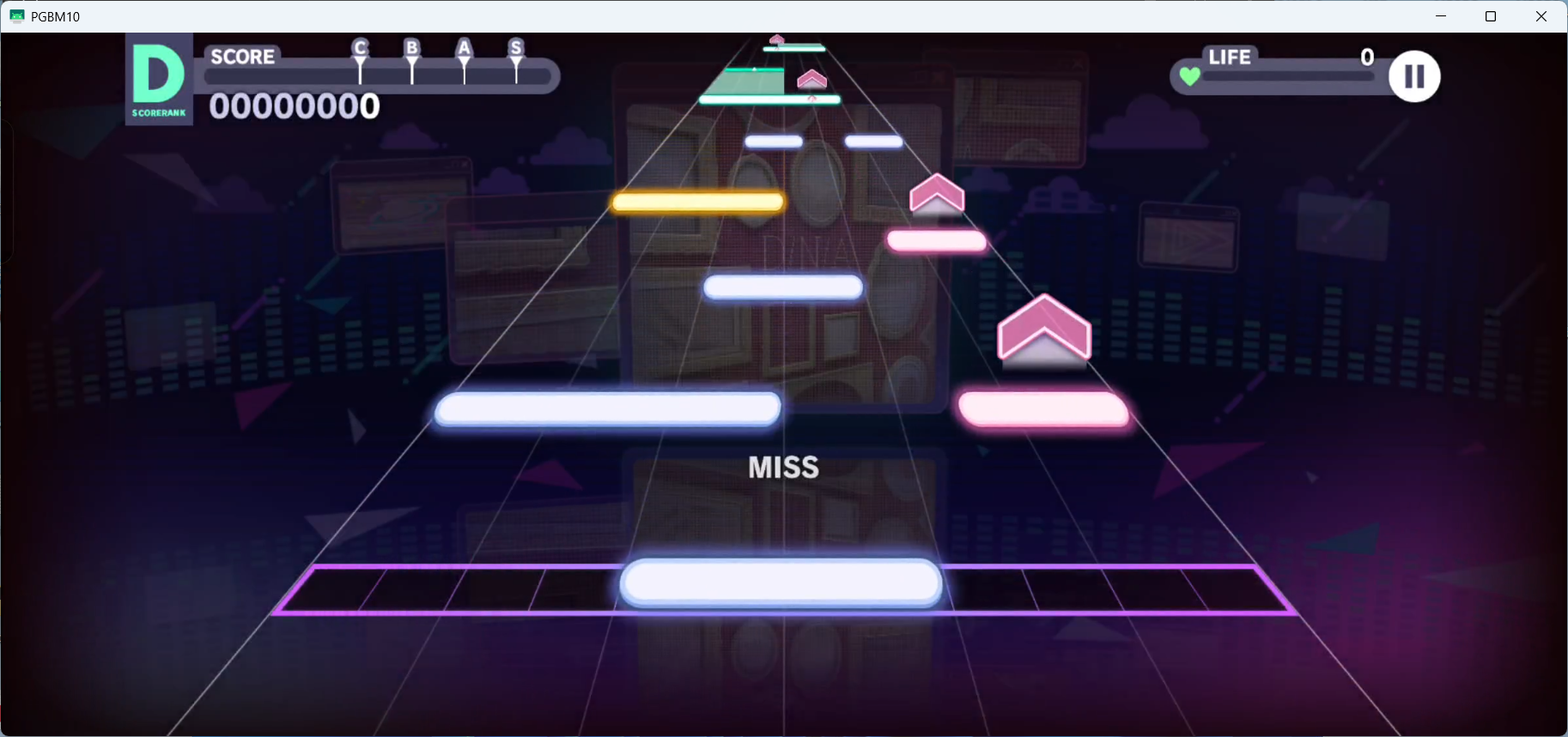flick: (997, 293, 1091, 372), (910, 171, 963, 216), (797, 69, 827, 89), (769, 34, 785, 45)
hold: (702, 73, 785, 95), (778, 43, 823, 47)
sweep: (724, 67, 784, 72), (807, 95, 817, 104)
tap: (619, 559, 942, 612), (435, 391, 781, 428), (959, 390, 1128, 427), (702, 274, 864, 299), (612, 192, 782, 210), (887, 230, 987, 252), (698, 94, 841, 104), (744, 135, 803, 148), (845, 135, 903, 148), (763, 46, 825, 51)
